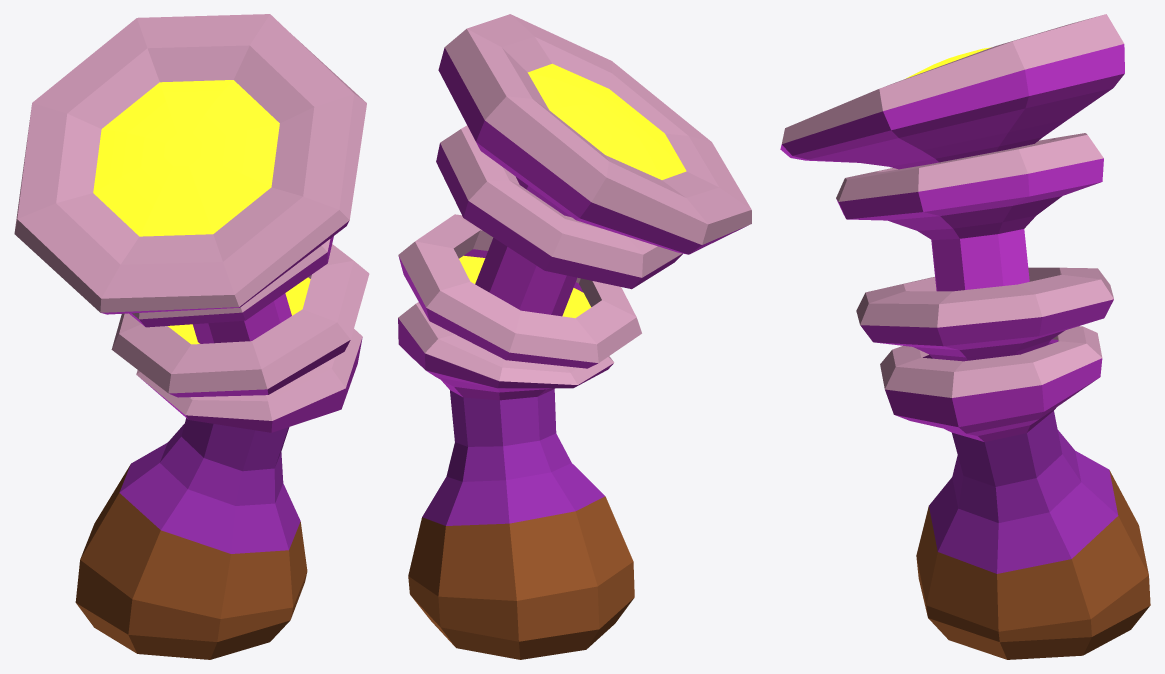
File: Tree_11_Var_04.fbx
3 views of the same model, side by side, from view 1: azimuth 30°, elevation 25°; view 2: azimuth 150°, elevation 25°; view 3: azimuth 270°, elevation 25° (orthographic). The views are drawn at different scales.
Visible parts, largest first — view 1: Tree_11_Var_04; view 2: Tree_11_Var_04; view 3: Tree_11_Var_04.
Boxes of the visible parts, <box> form: Tree_11_Var_04: <box>14,14,369,659</box>; Tree_11_Var_04: <box>398,14,751,659</box>; Tree_11_Var_04: <box>780,14,1150,659</box>.
Bounding box in the file's own units: 1.47 × 2.78 × 1.49.
